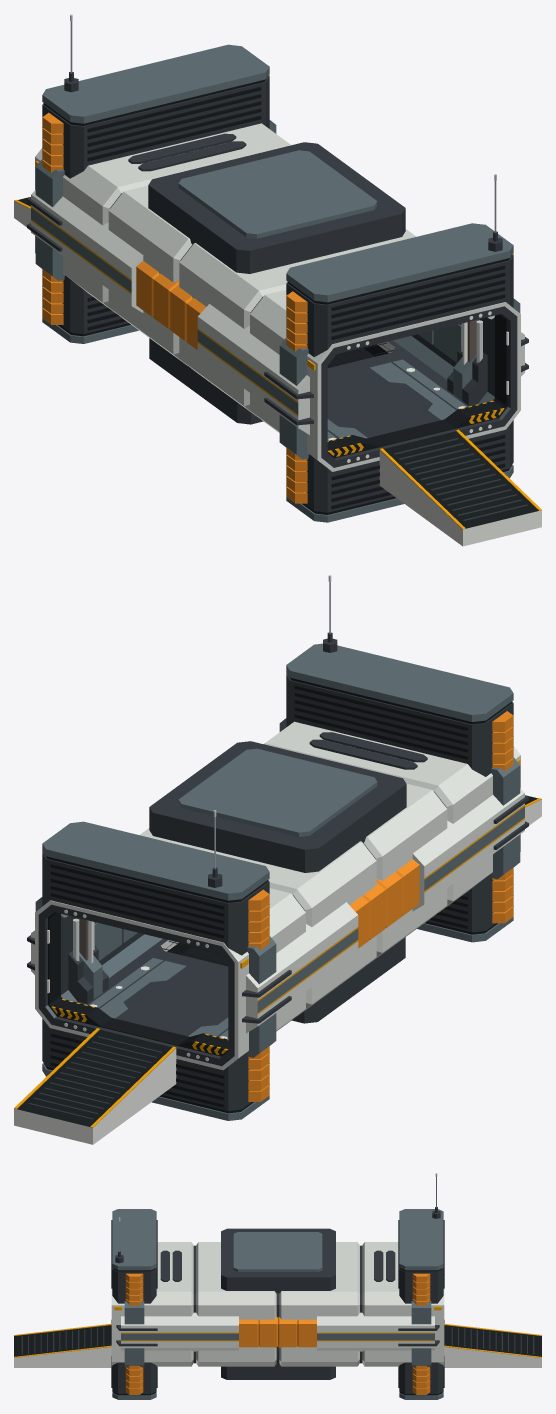
The model's file is station.FBX.
The picture shows the model from 3 angles, top to bottom: view 1: azimuth 30°, elevation 25°; view 2: azimuth 150°, elevation 25°; view 3: azimuth 270°, elevation 25°; orthographic projection. The views are drawn at different scales.
Visible parts, largest first — view 1: stationBody; view 2: stationBody; view 3: stationBody.
Boxes of the visible parts, x1=… form: stationBody: x1=14, y1=14, x2=541, y2=546; stationBody: x1=14, y1=575, x2=541, y2=1144; stationBody: x1=14, y1=1173, x2=541, y2=1399.
Bounding box in the file's own units: 69.74 × 86.43 × 234.
